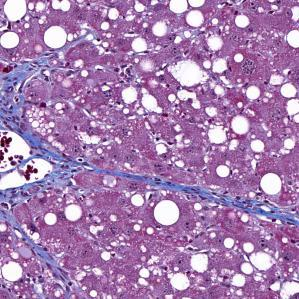fibrosis: (197, 188, 292, 221), (48, 149, 132, 186), (0, 60, 37, 134)
